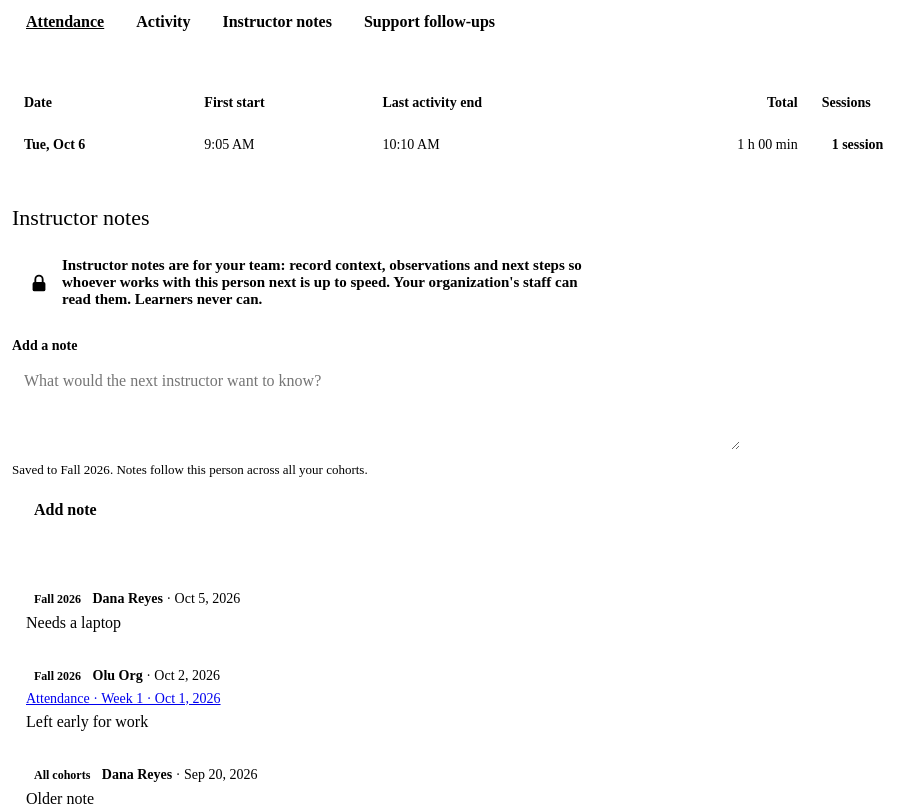
LearnerRecordPage › shows an error and keeps the text when adding fails
(page scrolled)
Type "x" into the text box labelled "Add a note" at (376, 405), box x1=12 y1=360 x2=740 y2=450
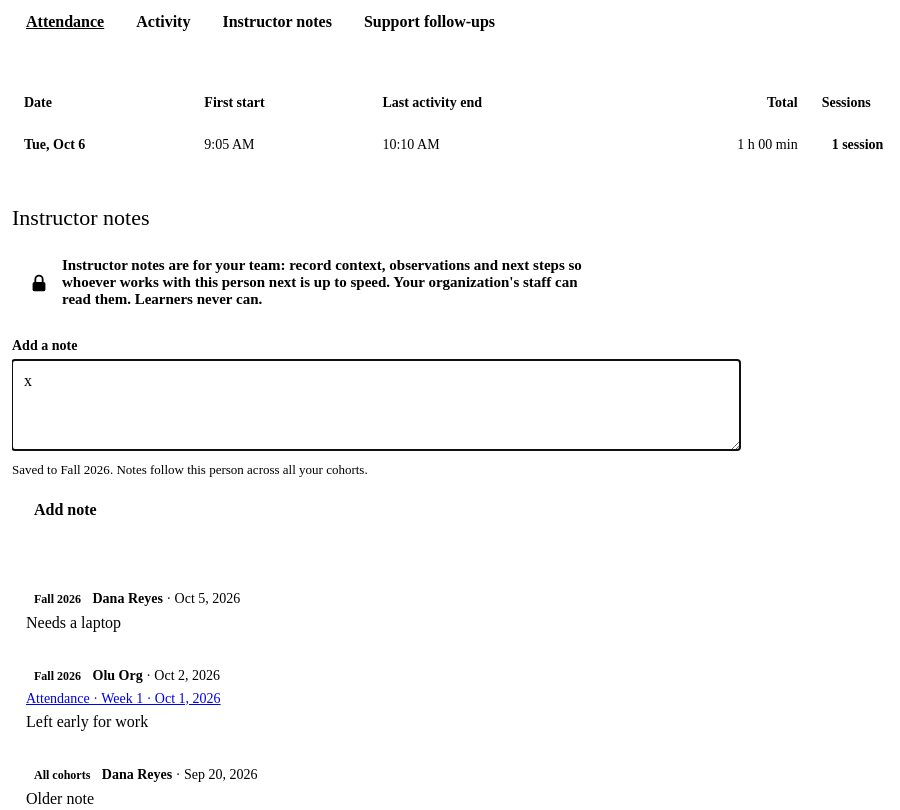
Click the button "Add note" at (65, 510), box x1=12 y1=490 x2=119 y2=530
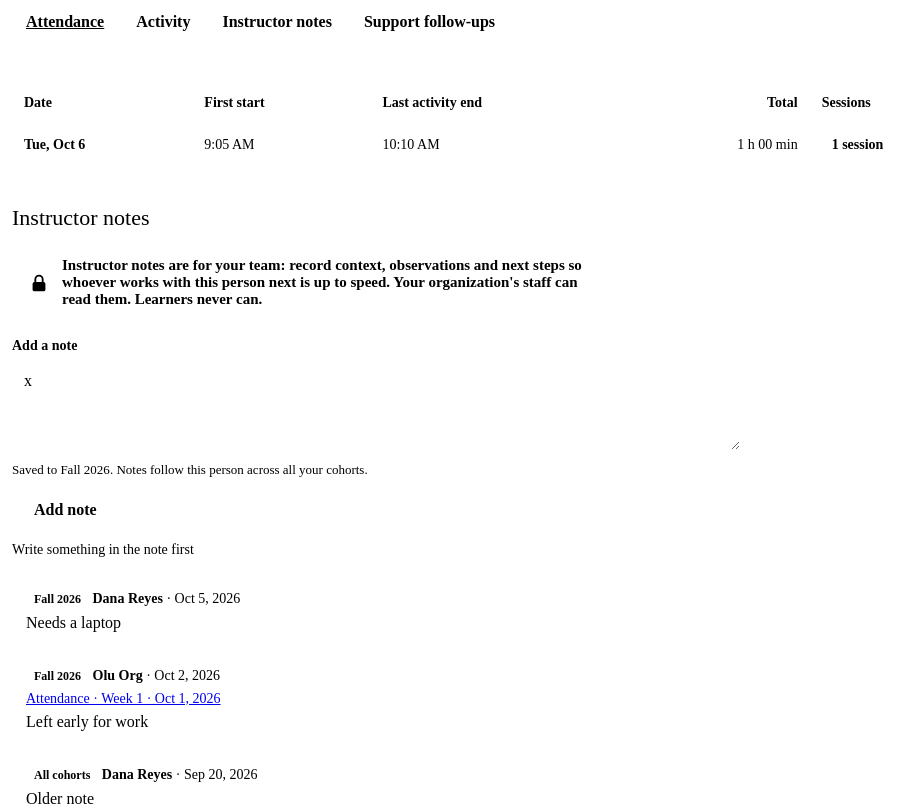
Result: the message shows "Write something" at x1=12 y1=542 x2=194 y2=557
